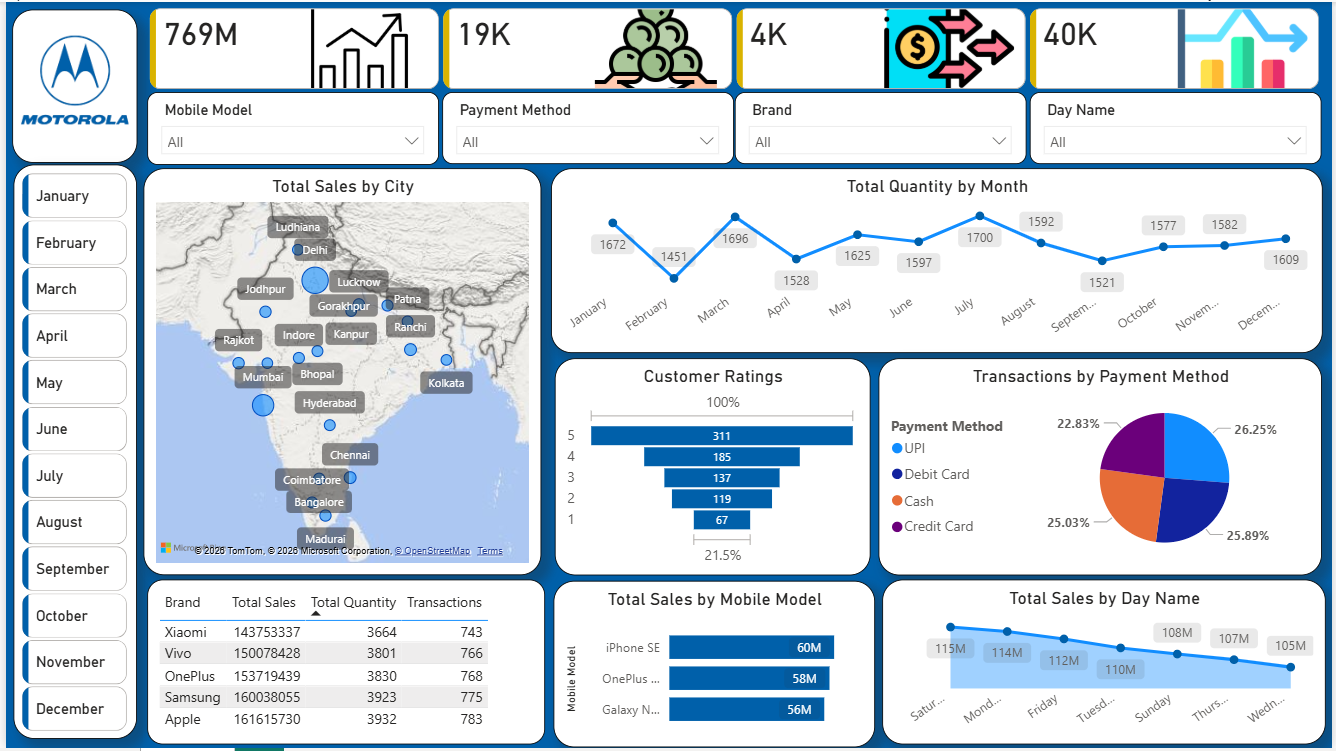

The page's visual inventory and layout, read from the dashboard file:
{"tool":"powerbi","page":{"name":"Page 1","canvas":[1280,720],"ordinal":0},"visuals":[{"type":"shape","box":[5.5,6.9,120.8,148.2],"z":0},{"type":"image","box":[9.6,16.5,113.9,116.6],"z":1000},{"type":"shape","box":[6.9,156.4,119.4,554.4],"z":2000},{"type":"advancedSlicerVisual","fields":{"Values":["Sales_Data.Date.Variation.Date Hierarchy.Month"]},"box":[11,160.5,111.1,548.9],"z":3000},{"type":"cardVisual","fields":{"Data":["Sales_Data.Total Sales","Sales_Data.Total Quantity","Sales_Data.Transactions","Sales_Data.Average"]},"box":[134,5.6,1140.1,83.7],"z":4000},{"type":"map","fields":{"Category":["Sales_Data.City"],"Size":["Sales_Data.Total Sales"]},"box":[132.9,160.8,384.1,393.1],"z":5000},{"type":"lineChart","fields":{"Y":["Sales_Data.Total Quantity"],"Category":["Sales_Data.Date.Variation.Date Hierarchy.Month","Sales_Data.Date.Variation.Date Hierarchy.Day"]},"box":[525.9,160.8,744.8,178.7],"z":6000},{"type":"clusteredBarChart","fields":{"Category":["Sales_Data.Mobile Model"],"Y":["Sales_Data.Total Sales"]},"box":[528.3,558.5,310.1,160.5],"z":7000},{"type":"pieChart","fields":{"Category":["Sales_Data.Payment Method"],"Y":["Sales_Data.Transactions"]},"box":[842.5,344.4,428.1,209.9],"z":8000},{"type":"funnel","title":"Customer Ratings","fields":{"Category":["Sales_Data.Customer Ratings"],"Y":["CountNonNull(Sales_Data.Customer Ratings)"]},"box":[529.7,344.4,304.6,209.9],"z":9000},{"type":"areaChart","fields":{"Category":["Sales_Data.Day Name"],"Y":["Sales_Data.Total Sales"]},"box":[845.3,557.1,428.1,159.2],"z":10000},{"type":"tableEx","fields":{"Values":["Sales_Data.Brand","Sales_Data.Total Sales","Sales_Data.Total Quantity","Sales_Data.Transactions"]},"box":[135.8,557.1,384.2,159.2],"z":11000},{"type":"slicer","fields":{"Values":["Sales_Data.Mobile Model"]},"box":[136.2,87.1,281.4,70.3],"z":12000},{"type":"slicer","fields":{"Values":["Sales_Data.Payment Method"]},"box":[421,87.1,281.4,69.2],"z":13000},{"type":"slicer","fields":{"Values":["Sales_Data.Brand"]},"box":[703.5,87.1,281.4,69.2],"z":14000},{"type":"slicer","fields":{"Values":["Sales_Data.Day Name"]},"box":[988.2,87.1,281.4,69.2],"z":15000}]}

Visuals, with their boxes in screenshot pixels (x1, y1, x2, y2), scaled from the page's 1280x720 canvas onto the 1336x751 screenshot:
shape: {"x1": 6, "y1": 7, "x2": 132, "y2": 162}
image: {"x1": 10, "y1": 17, "x2": 129, "y2": 139}
shape: {"x1": 7, "y1": 163, "x2": 132, "y2": 741}
advancedSlicerVisual - Sales_Data.Date.Variation.Date Hierarchy.Month: {"x1": 11, "y1": 167, "x2": 127, "y2": 740}
cardVisual - Sales_Data.Total Sales x Sales_Data.Total Quantity: {"x1": 140, "y1": 6, "x2": 1330, "y2": 93}
map - Sales_Data.City x Sales_Data.Total Sales: {"x1": 139, "y1": 168, "x2": 540, "y2": 578}
lineChart - Sales_Data.Total Quantity x Sales_Data.Date.Variation.Date Hierarchy.Month: {"x1": 549, "y1": 168, "x2": 1326, "y2": 354}
clusteredBarChart - Sales_Data.Mobile Model x Sales_Data.Total Sales: {"x1": 551, "y1": 583, "x2": 875, "y2": 750}
pieChart - Sales_Data.Payment Method x Sales_Data.Transactions: {"x1": 879, "y1": 359, "x2": 1326, "y2": 578}
"Customer Ratings" funnel: {"x1": 553, "y1": 359, "x2": 871, "y2": 578}
areaChart - Sales_Data.Day Name x Sales_Data.Total Sales: {"x1": 882, "y1": 581, "x2": 1329, "y2": 747}
tableEx - Sales_Data.Brand x Sales_Data.Total Sales: {"x1": 142, "y1": 581, "x2": 543, "y2": 747}
slicer - Sales_Data.Mobile Model: {"x1": 142, "y1": 91, "x2": 436, "y2": 164}
slicer - Sales_Data.Payment Method: {"x1": 439, "y1": 91, "x2": 733, "y2": 163}
slicer - Sales_Data.Brand: {"x1": 734, "y1": 91, "x2": 1028, "y2": 163}
slicer - Sales_Data.Day Name: {"x1": 1031, "y1": 91, "x2": 1325, "y2": 163}
